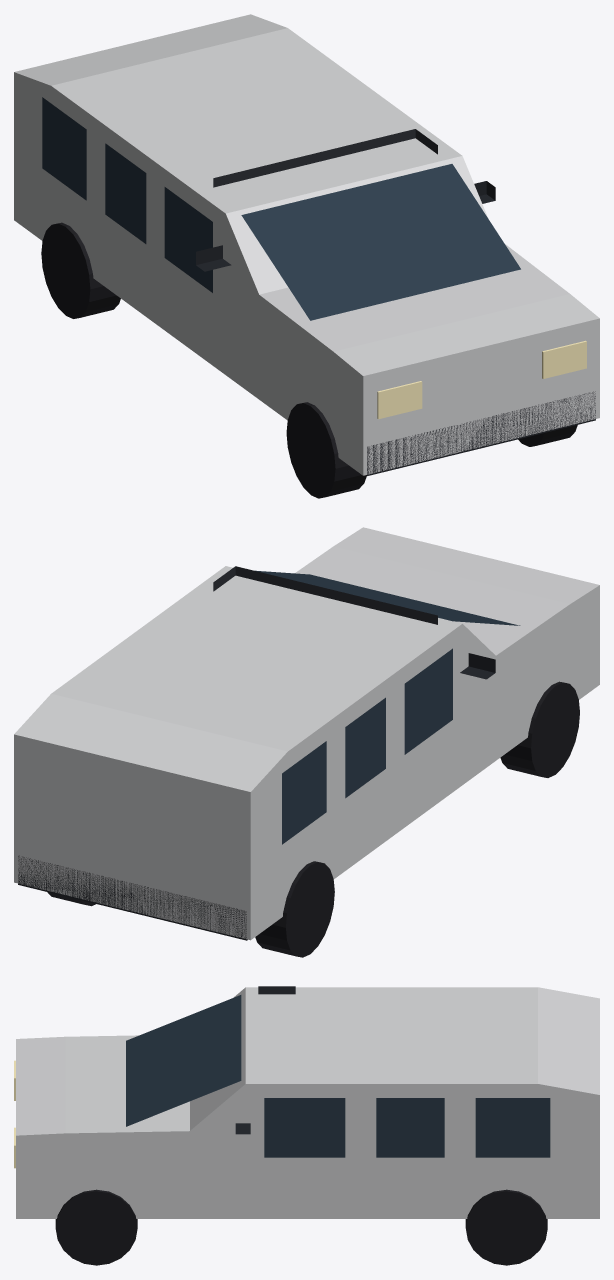
File: police_car.glb
3 renders of one model, top to bottom at view 1: azimuth 30°, elevation 25°; view 2: azimuth 150°, elevation 25°; view 3: azimuth 270°, elevation 25°, orthographic. The views are drawn at different scales.
Parts seen in each view (by area): view 1: body, glass_screen, bumper_nose, wheel_1_L_tyre, wheel_0_L_tyre, glass_side.001, glass_side.005, glass_side.003, beacon_bar, head_L, head_R; view 2: body, bumper_tail, wheel_0_L_tyre, wheel_1_L_tyre, glass_side.005, glass_side.001, glass_side.003, glass_screen, beacon_bar, mirror_L; view 3: body, glass_screen, wheel_0_R_tyre, wheel_1_R_tyre, glass_side.004, glass_side, glass_side.002.
Boxes of the visible parts, <box> form: body: <box>14,14,599,475</box>; glass_screen: <box>241,164,520,320</box>; bumper_nose: <box>366,391,595,475</box>; wheel_1_L_tyre: <box>286,402,366,498</box>; wheel_0_L_tyre: <box>41,222,120,318</box>; glass_side.001: <box>42,97,86,200</box>; glass_side.005: <box>164,187,212,292</box>; glass_side.003: <box>105,143,146,243</box>; beacon_bar: <box>213,129,437,187</box>; head_L: <box>377,381,422,419</box>; head_R: <box>542,340,586,378</box>; body: <box>14,527,599,940</box>; bumper_tail: <box>18,855,247,940</box>; wheel_0_L_tyre: <box>255,861,334,957</box>; wheel_1_L_tyre: <box>500,681,579,777</box>; glass_side.005: <box>404,648,452,754</box>; glass_side.001: <box>282,741,326,844</box>; glass_side.003: <box>345,697,385,798</box>; glass_screen: <box>255,570,520,625</box>; beacon_bar: <box>213,566,437,624</box>; mirror_L: <box>460,653,495,679</box>; body: <box>16,987,599,1218</box>; glass_screen: <box>126,995,241,1126</box>; wheel_0_R_tyre: <box>465,1189,547,1265</box>; wheel_1_R_tyre: <box>55,1189,137,1265</box>; glass_side.004: <box>264,1098,345,1157</box>; glass_side: <box>475,1098,550,1157</box>; glass_side.002: <box>376,1098,444,1157</box>.
Bounding box in the file's own units: 2.26 × 1.67 × 4.71.
